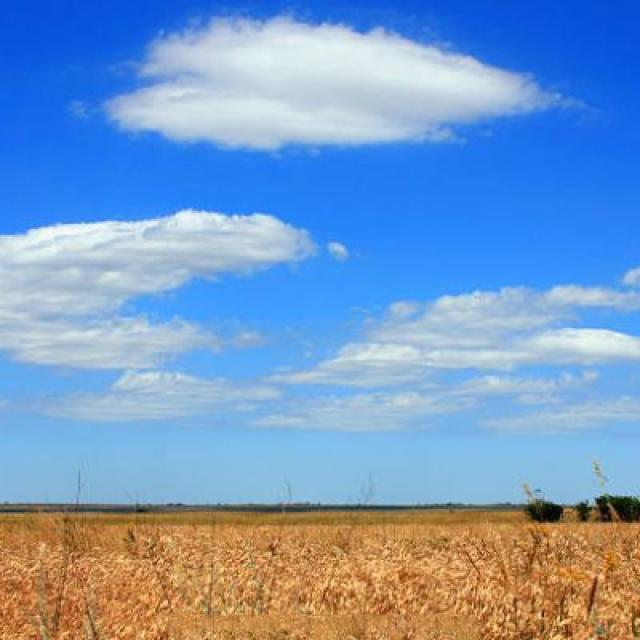Cs: (1, 12, 636, 443)
